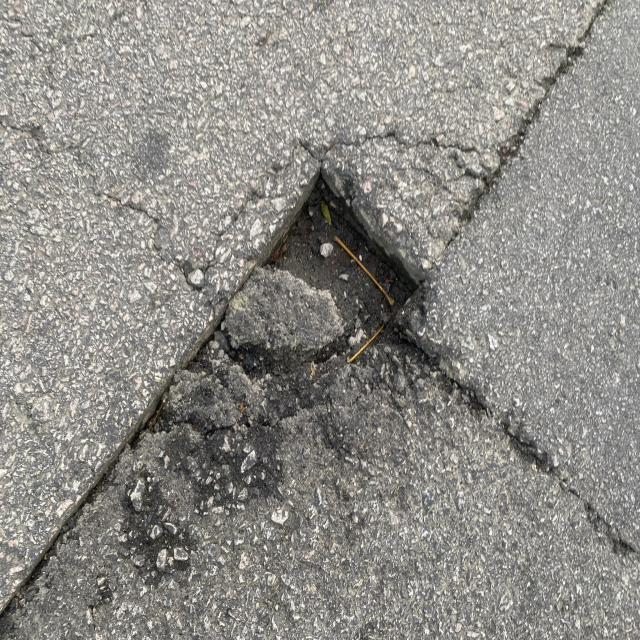Pothole: (120, 116, 500, 512)
